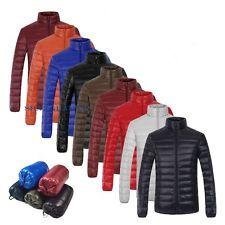C_jacket: (136, 115, 219, 221), (7, 8, 82, 114), (101, 88, 174, 193), (70, 60, 139, 167), (119, 101, 182, 205), (61, 51, 124, 150), (85, 76, 146, 176), (26, 21, 78, 125), (43, 36, 96, 138)
